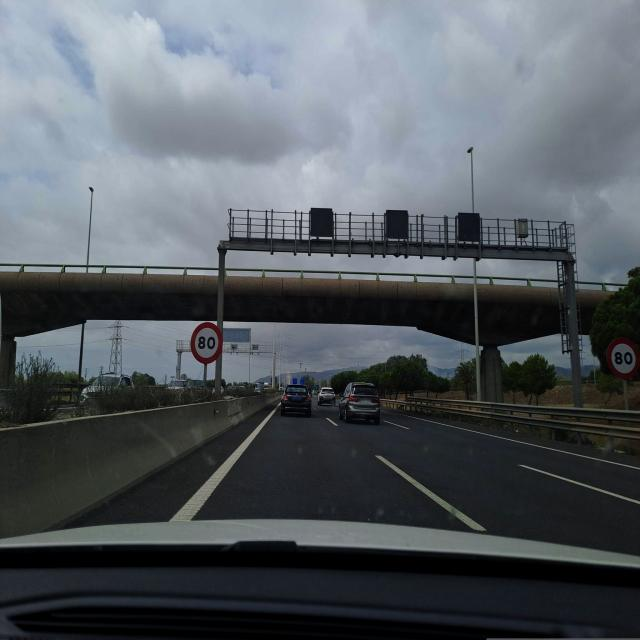car: (338, 381, 382, 425), (280, 383, 312, 418), (317, 386, 334, 406)
